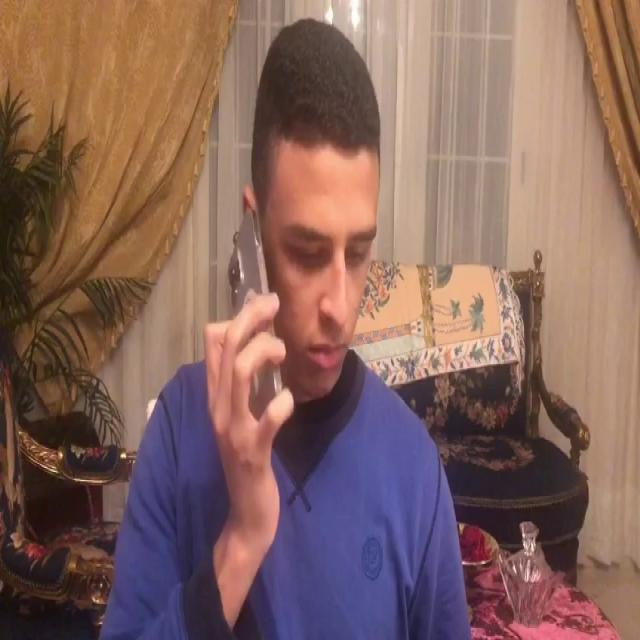phone: (224, 206, 283, 425)
